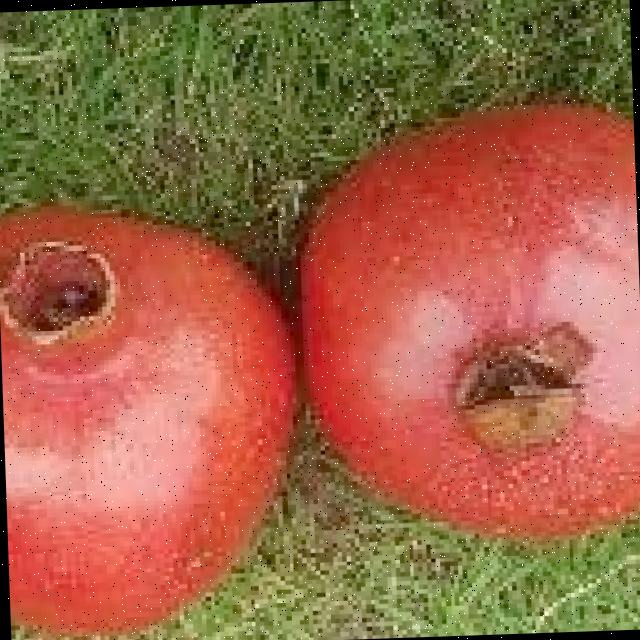Good_Lime-10-21 days: (0, 82, 640, 640)
